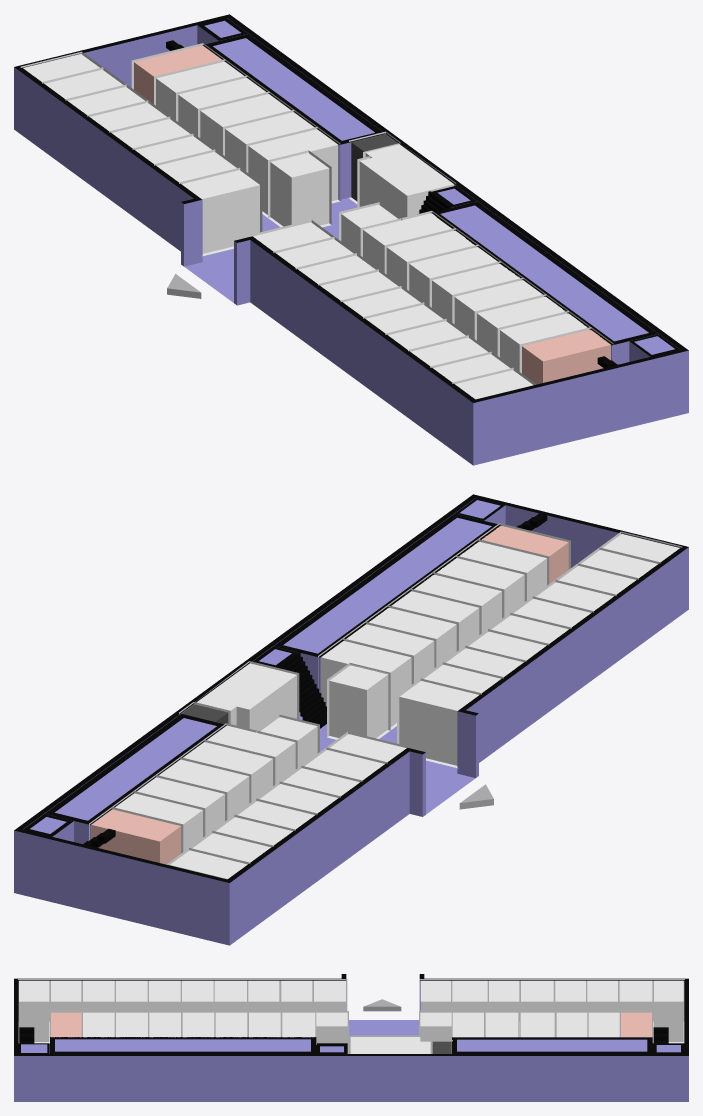
3 views of the same model, one above another, from view 1: azimuth 30°, elevation 25°; view 2: azimuth 150°, elevation 25°; view 3: azimuth 270°, elevation 25° (orthographic). The views are drawn at different scales.
Visible parts, largest first — view 1: object, room_8_3_31, room_8_3_11, room_8_3_33, トイレ_8_3_2, room_8_3_25, room_8_3_27, room_8_3_24, room_8_3_26, room_8_3_19, room_8_3_22, room_8_3_20 (+25 smaller); view 2: object, room_8_3_10, room_8_3_31, room_8_3_32, トイレ_8_3_1, room_8_3_24, room_8_3_27, room_8_3_26, room_8_3_23, room_8_3_20, room_8_3_25, room_8_3_22 (+25 smaller); view 3: object, room_8_3_1, room_8_3_18, room_8_3_31, room_8_3_12, room_8_3_17, room_8_3_32, room_8_3_14, room_8_3_7, room_8_3_3, room_8_3_4, room_8_3_5 (+30 smaller).
Part boxes in pixels (box(x1,y1,x2,y2)): object: box(14, 14, 688, 465); room_8_3_31: box(359, 144, 453, 217); room_8_3_11: box(181, 170, 259, 253); room_8_3_33: box(270, 153, 329, 226); トイレ_8_3_2: box(522, 329, 610, 384); room_8_3_25: box(248, 129, 338, 215); room_8_3_27: box(200, 94, 290, 154); room_8_3_24: box(363, 213, 451, 272); room_8_3_26: box(225, 112, 314, 171); room_8_3_19: box(477, 296, 565, 355); room_8_3_22: box(409, 247, 497, 305); room_8_3_20: box(454, 280, 542, 338); object: box(14, 494, 688, 945); room_8_3_10: box(399, 681, 478, 765); room_8_3_31: box(197, 663, 296, 730); room_8_3_32: box(329, 665, 388, 738); トイレ_8_3_1: box(91, 809, 180, 864); room_8_3_24: box(321, 641, 411, 728); room_8_3_27: box(159, 759, 249, 819); room_8_3_26: box(183, 742, 272, 801); room_8_3_23: box(346, 624, 434, 682); room_8_3_20: box(414, 574, 501, 633); room_8_3_25: box(207, 725, 295, 784); room_8_3_22: box(369, 608, 456, 666); object: box(14, 974, 688, 1101); room_8_3_1: box(19, 980, 49, 1041); room_8_3_18: box(654, 980, 683, 1041); room_8_3_31: box(350, 1037, 430, 1053); room_8_3_12: box(452, 980, 487, 1010); room_8_3_17: box(619, 980, 652, 1010); room_8_3_32: box(316, 1012, 347, 1044); room_8_3_14: box(521, 980, 553, 1010); room_8_3_7: box(214, 980, 246, 1010); room_8_3_3: box(83, 980, 114, 1010); room_8_3_4: box(116, 980, 147, 1010); room_8_3_5: box(149, 980, 180, 1010).
Size of the model in its own units: 0.8464 by 0.1908 by 2.48.
